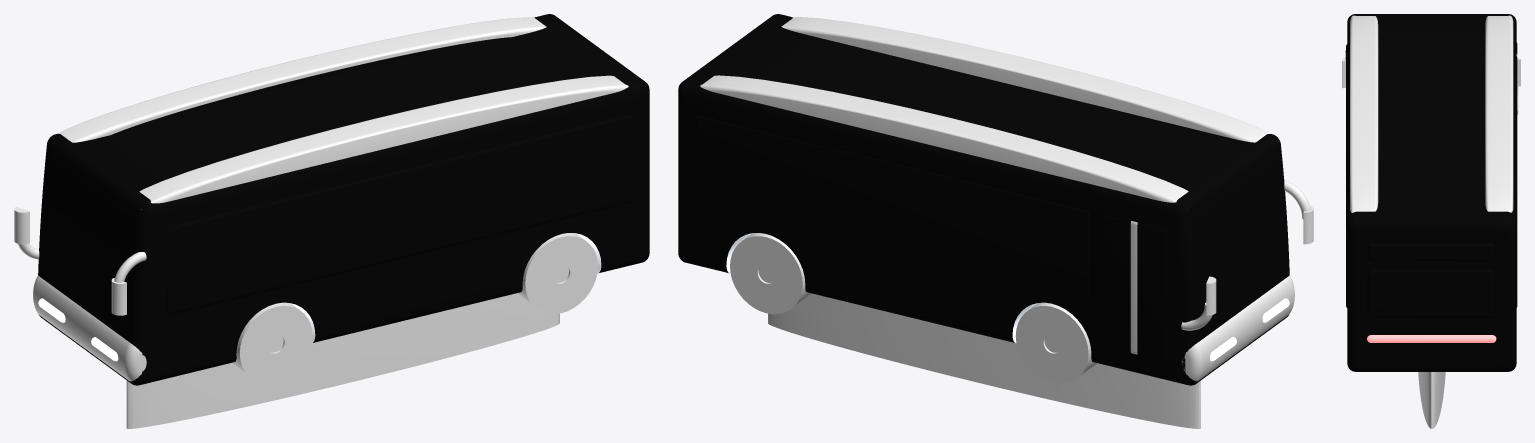
The model's file is testing.glb.
3 views of the same model, side by side, from view 1: azimuth 30°, elevation 25°; view 2: azimuth 150°, elevation 25°; view 3: azimuth 270°, elevation 25° (orthographic). The views are drawn at different scales.
Parts seen in each view (by area): view 1: Bus Body, Right Windows, Bus top sides (×2), Bus top middle, Wheel.2 (×2), Bumper; view 2: Bus Body, Left Windows, Bus top sides (×2), Bus top middle, Wheel.2 (×2), Door, Bumper, Divider; view 3: Bus Body, Bus top sides (×2), Back Window, Back Display, Bus top middle, Light, Right Windows, Left Windows.
Boxes of the visible parts, x1,y1,x2,y2 form: Bus Body: [38, 14, 649, 385]; Right Windows: [166, 115, 631, 314]; Bus top sides (×2): [58, 17, 628, 209]; Bus top middle: [126, 293, 559, 428]; Wheel.2 (×2): [231, 233, 597, 383]; Bumper: [33, 275, 146, 381]; Bus Body: [678, 14, 1289, 385]; Left Windows: [695, 115, 1089, 296]; Bus top sides (×2): [700, 17, 1279, 202]; Bus top middle: [768, 293, 1200, 428]; Wheel.2 (×2): [730, 233, 1097, 383]; Door: [1102, 214, 1166, 360]; Bumper: [1181, 275, 1294, 381]; Divider: [1130, 221, 1137, 354]; Bus Body: [1347, 14, 1516, 371]; Bus top sides (×2): [1350, 15, 1513, 212]; Back Window: [1367, 269, 1493, 317]; Back Display: [1368, 243, 1493, 261]; Bus top middle: [1418, 372, 1445, 428]; Light: [1367, 335, 1496, 342]; Right Windows: [1346, 44, 1347, 307]; Left Windows: [1516, 74, 1517, 307].
Bounding box in the file's own units: 627 × 310 × 211.
